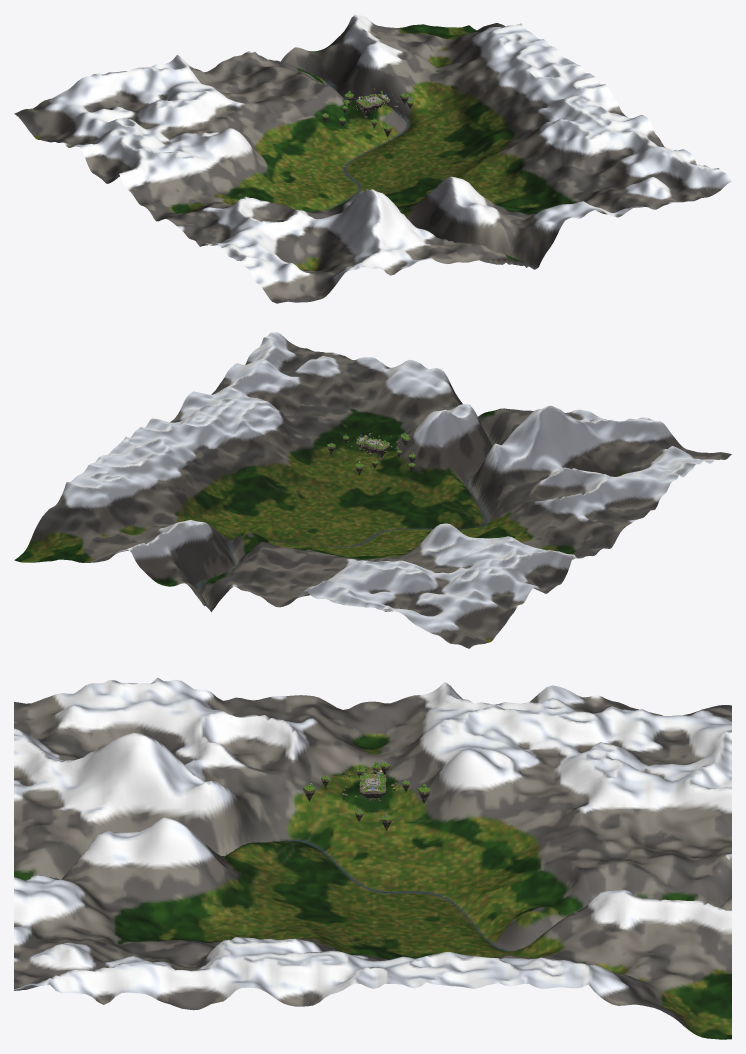
Rendered from windward_colonnade.glb.
The picture shows the model from 3 angles, top to bottom: view 1: azimuth 30°, elevation 25°; view 2: azimuth 150°, elevation 25°; view 3: azimuth 270°, elevation 25°; orthographic projection. The views are drawn at different scales.
Visible parts, largest first — view 1: Vista world below, Far islands; view 2: Vista world below, Far islands; view 3: Vista world below, Far islands.
Boxes of the visible parts, left/top/right/bottom form: Vista world below: left=14, top=14, right=731, bottom=303; Far islands: left=321, top=88, right=413, bottom=137; Vista world below: left=14, top=332, right=731, bottom=648; Far islands: left=327, top=432, right=415, bottom=475; Vista world below: left=14, top=677, right=731, bottom=1039; Far islands: left=303, top=761, right=430, bottom=830.
Size of the model in its own units: 440 by 83.46 by 440.
Materials: 38 (38 with a texture image).
